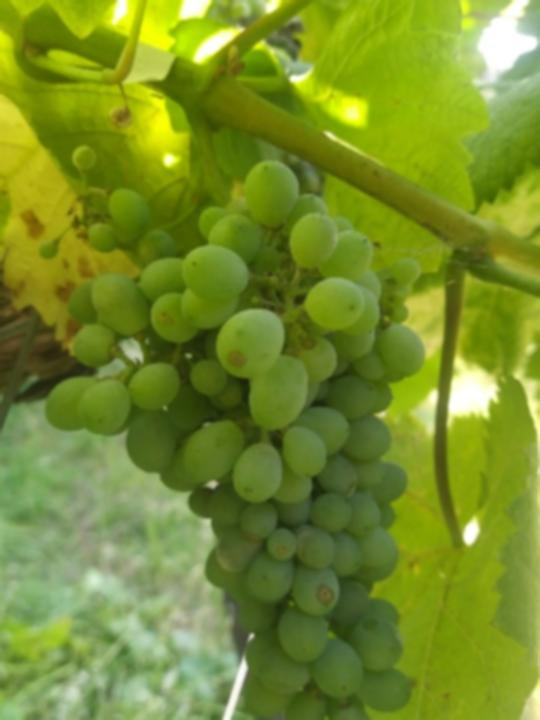grape: (33, 139, 432, 720)
